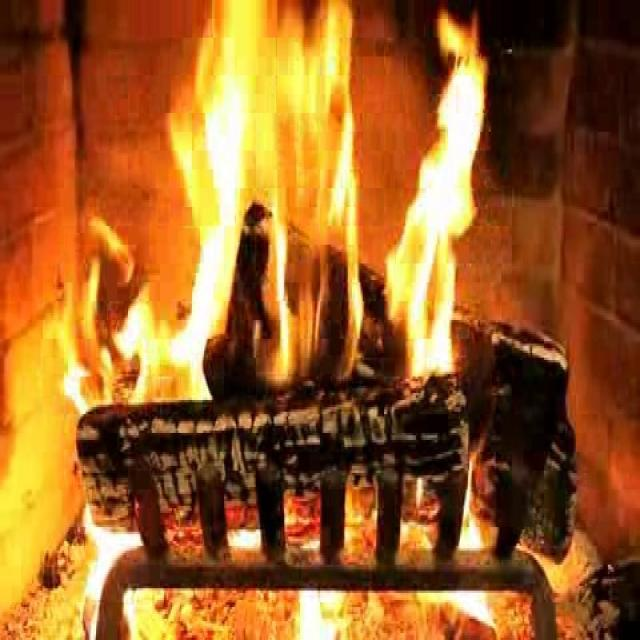Fire: (23, 1, 640, 426)
